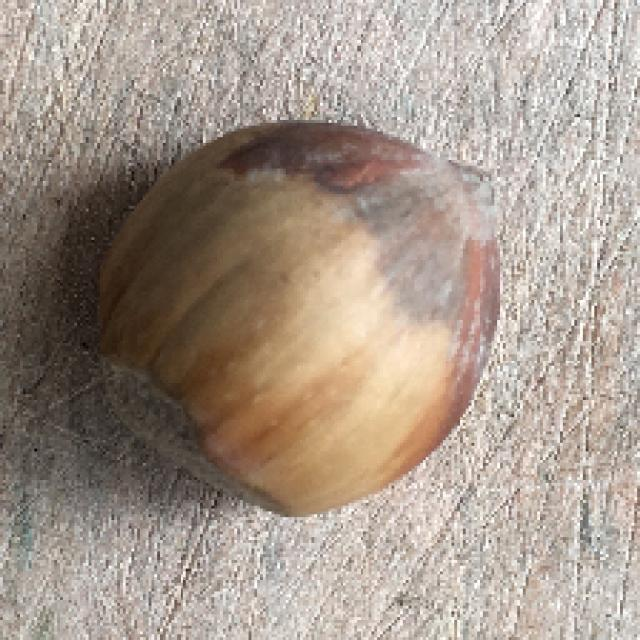damagedHazelnut: (79, 89, 516, 528)
